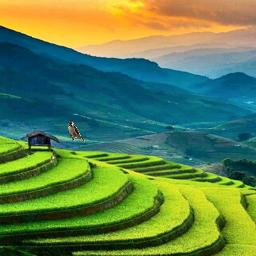Sparrow: (68, 120, 85, 142)
